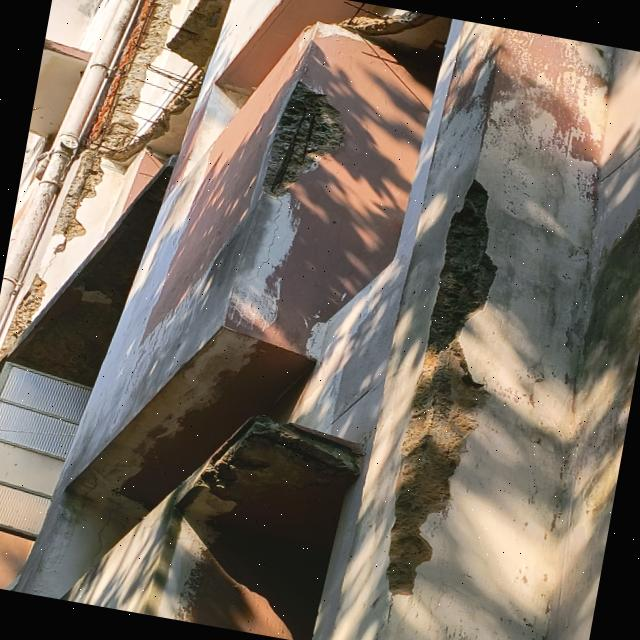crack: (240, 195, 284, 284), (85, 516, 114, 575), (78, 463, 108, 511)
spalling: (386, 182, 496, 596), (52, 0, 174, 253), (87, 0, 232, 169), (574, 210, 640, 514), (196, 415, 360, 504), (262, 81, 344, 197), (319, 0, 434, 37), (0, 274, 46, 361)
stain_mould: (574, 210, 640, 514)
